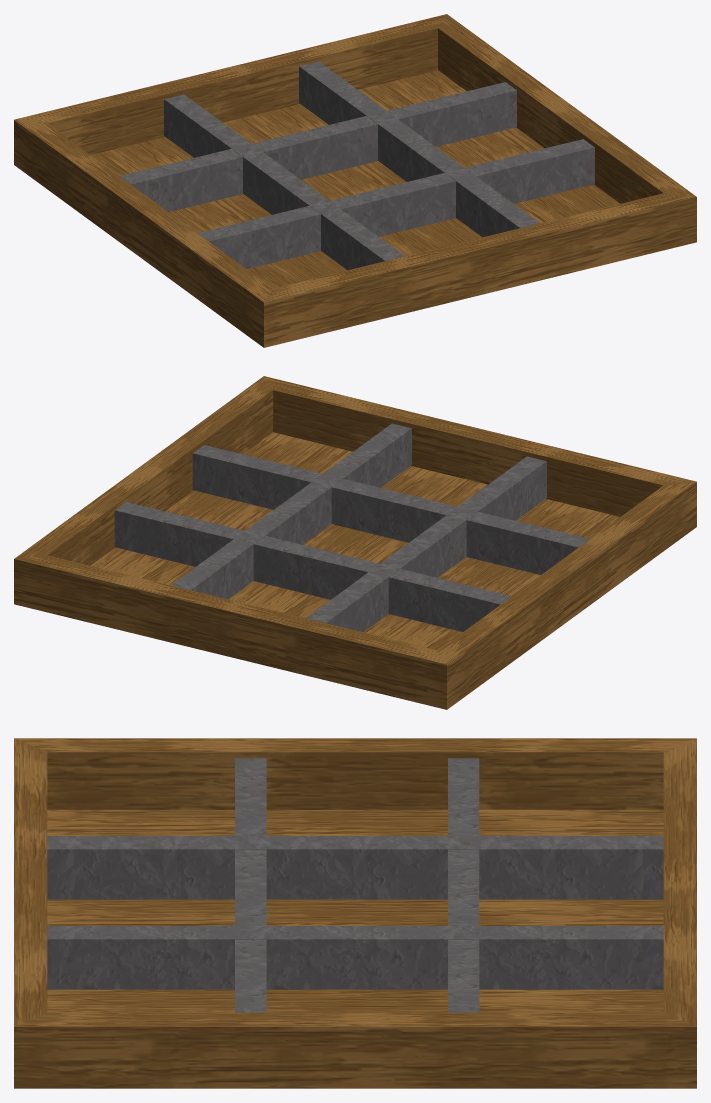
File: TicTacToeFrame.fbx
The picture shows the model from 3 angles, top to bottom: view 1: azimuth 30°, elevation 25°; view 2: azimuth 150°, elevation 25°; view 3: azimuth 270°, elevation 25°; orthographic projection. The views are drawn at different scales.
Visible parts, largest first — view 1: Frame, Divider1, Divider2; view 2: Frame, Divider1, Divider2; view 3: Frame, Divider2, Divider1.
Part boxes in pixels (bbox=[...]): Frame: bbox=[14, 14, 696, 347]; Divider1: bbox=[119, 82, 594, 268]; Divider2: bbox=[164, 61, 539, 270]; Frame: bbox=[14, 376, 696, 709]; Divider1: bbox=[114, 445, 589, 631]; Divider2: bbox=[171, 423, 546, 632]; Frame: bbox=[14, 738, 696, 1088]; Divider2: bbox=[47, 836, 663, 989]; Divider1: bbox=[235, 758, 479, 1012].
Size of the model in its own units: 200 by 20 by 200.
2 materials, 2 textured.
